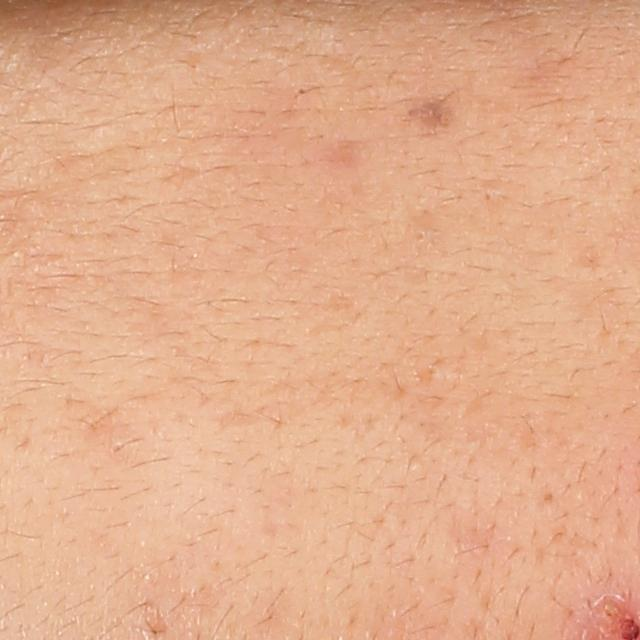comedo: (409, 223, 434, 247), (483, 188, 494, 201)
melasma: (401, 91, 463, 130)
